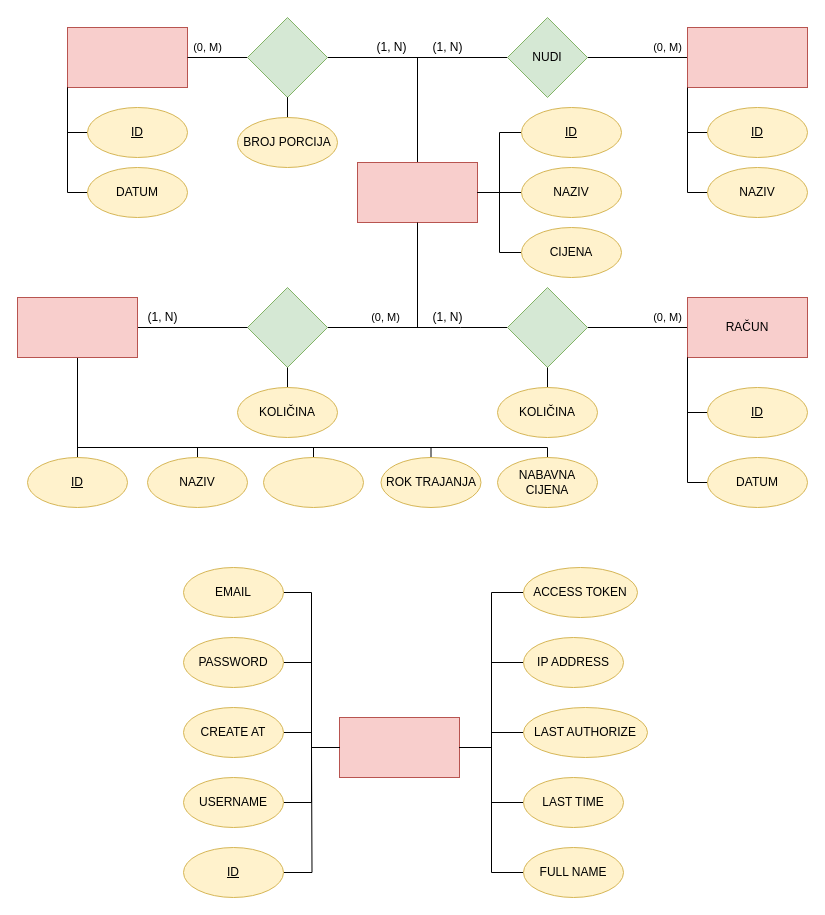
This 825x915 diagram has some shape labels left out. Each missing label, with the centre of its shape:
"DNEVNI MENI" goes at [127,57].
"JELO" goes at [417,192].
"MENI" goes at [747,57].
"NAMIRNICE" goes at [77,327].
"OBUHVAĆA" goes at [287,57].
"POTREBAN" goes at [287,327].
"RASPOLOŽIVA KOLIČINA" goes at [313,482].
"SADRŽI" goes at [547,327].
"USERS" goes at [399,747].
